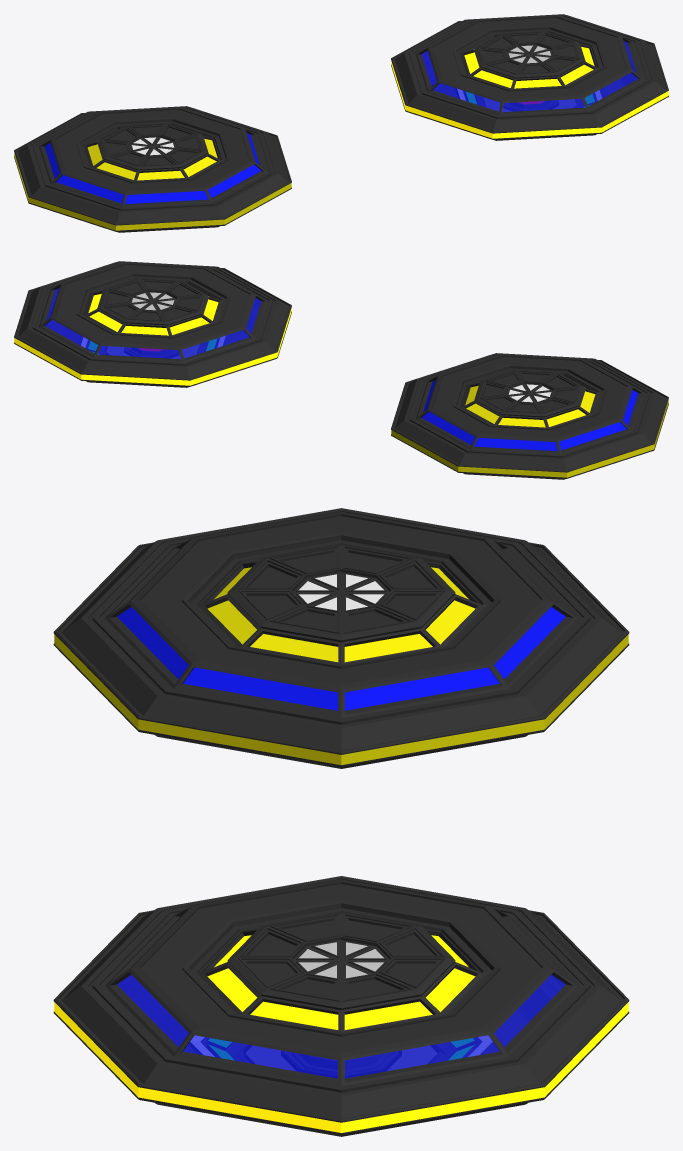
Rendered from UFO Low Poly.fbx.
3 views of the same model, one above another, from view 1: azimuth 30°, elevation 25°; view 2: azimuth 150°, elevation 25°; view 3: azimuth 270°, elevation 25° (orthographic). The views are drawn at different scales.
Visible parts, largest first — view 1: UFO___The_Explorer_Low_Poly, UFO___The_Explorer_Low_Poly_BAKED; view 2: UFO___The_Explorer_Low_Poly, UFO___The_Explorer_Low_Poly_BAKED; view 3: UFO___The_Explorer_Low_Poly, UFO___The_Explorer_Low_Poly_BAKED.
Boxes of the visible parts, bbox=[...] form: UFO___The_Explorer_Low_Poly: bbox=[391, 14, 668, 140]; UFO___The_Explorer_Low_Poly_BAKED: bbox=[14, 106, 291, 232]; UFO___The_Explorer_Low_Poly: bbox=[14, 261, 291, 387]; UFO___The_Explorer_Low_Poly_BAKED: bbox=[391, 353, 668, 479]; UFO___The_Explorer_Low_Poly: bbox=[53, 876, 629, 1136]; UFO___The_Explorer_Low_Poly_BAKED: bbox=[53, 508, 629, 768].
Bounding box in the file's own units: 2284 × 171 × 909.
Materials: 8 (1 with a texture image).
